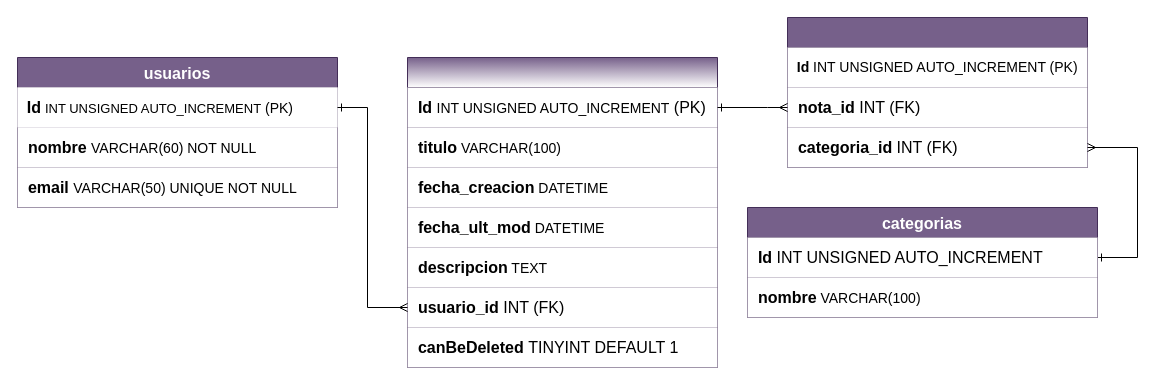
Some shapes in this 1164 by 385 pixel diagram are drawn without their labels. The shapes that lost their labels are listed below. From the top down, each one's centre as x and y in pixels, then its label:
the point at 937,92: nota_categoria
the point at 562,212: notas
